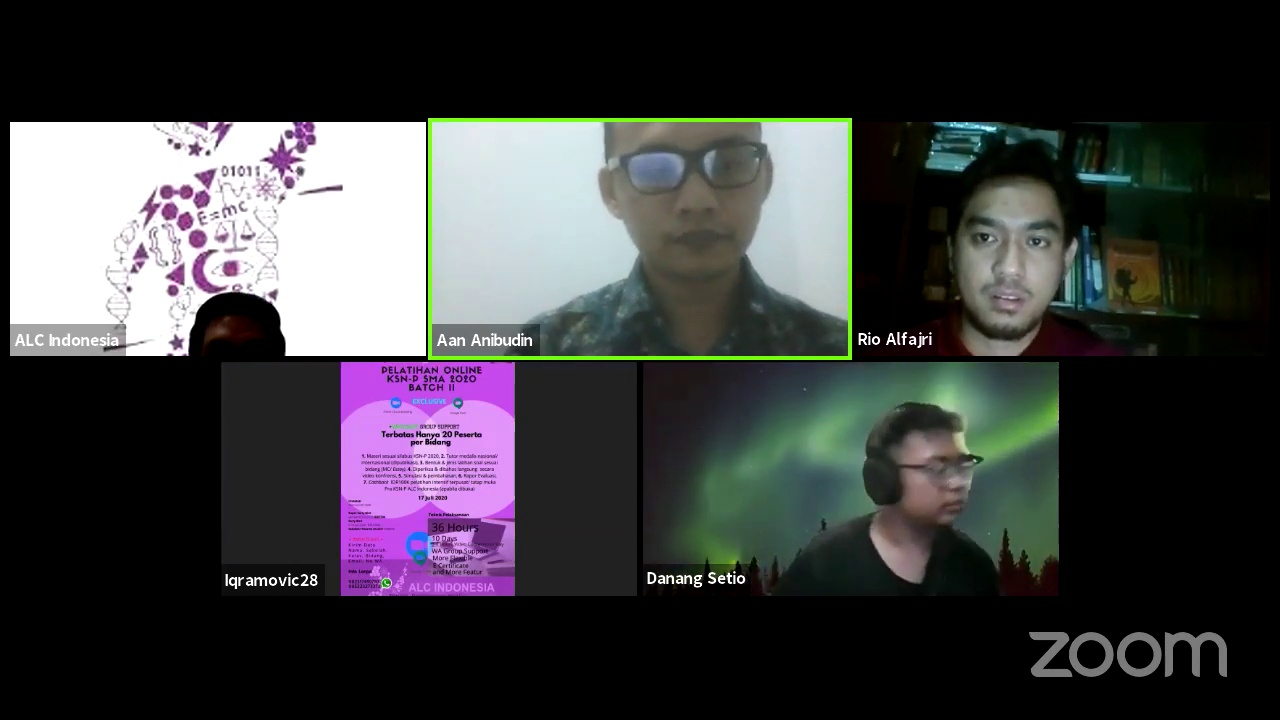Distracted: (861, 412, 1004, 535)
Not Distracted: (589, 130, 780, 292), (942, 179, 1080, 346)
